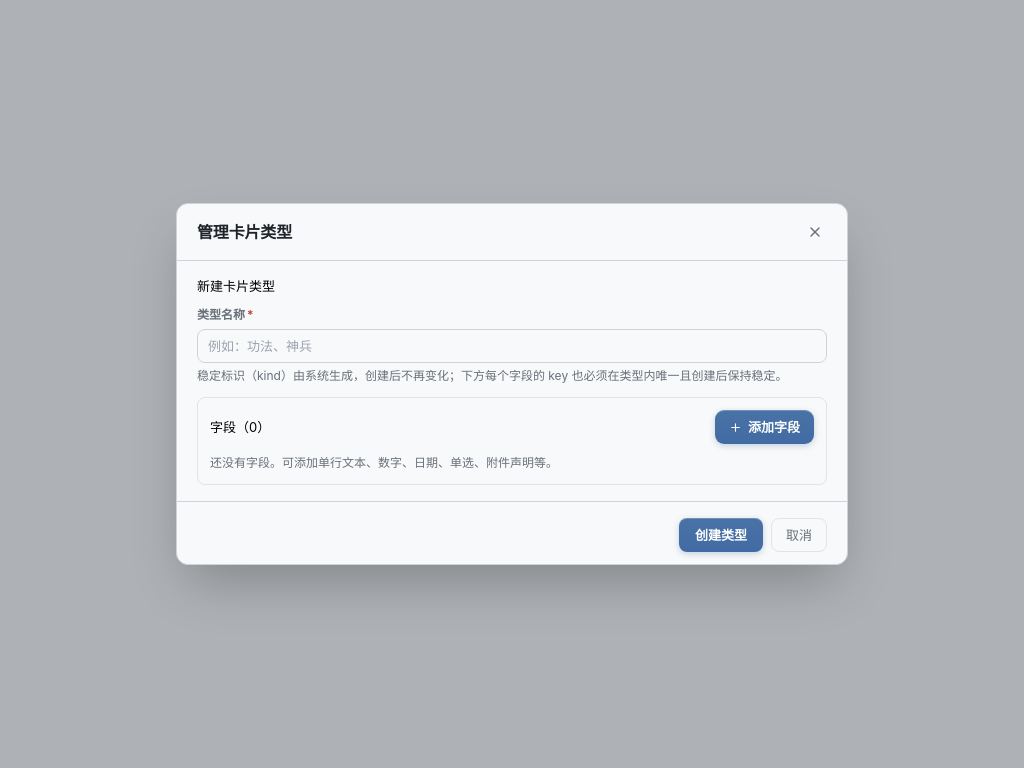
CardTypeEditor 自定义卡片类型 › 选项字段没有有效选项不提交
The image size is (1024, 768).
Type "选项类型" into the field with placeholder "例如：功法、神兵" at (512, 346), box 197,329 -> 827,363
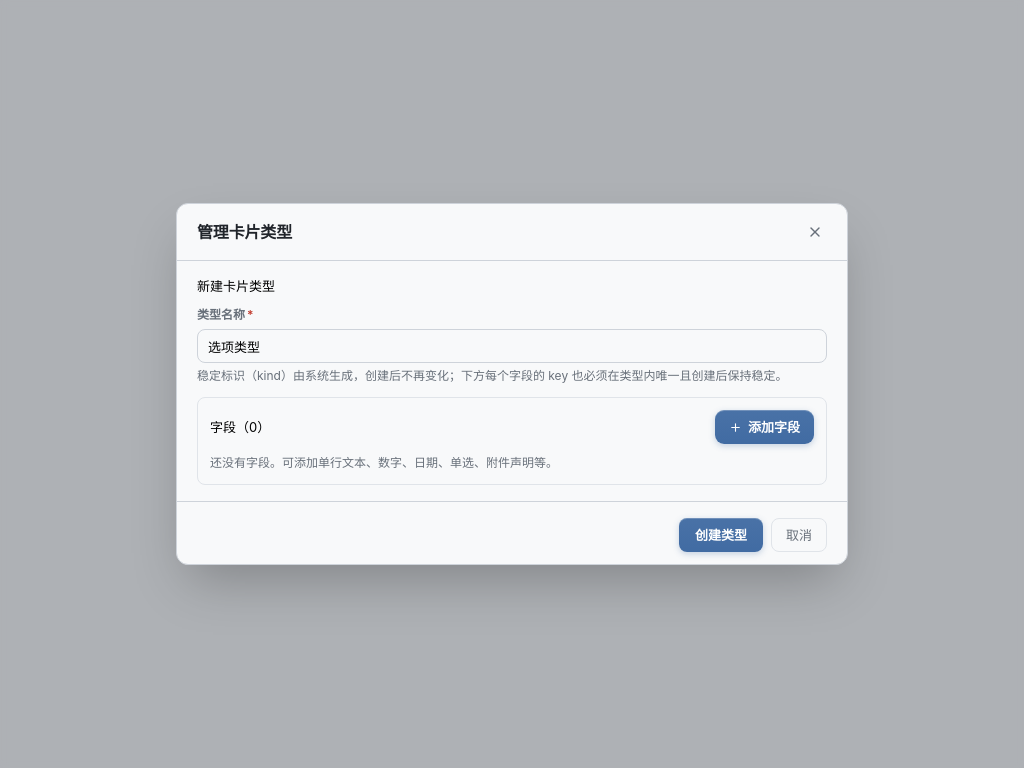
Click the button "添加字段" at (764, 427), box 715,410 -> 814,444
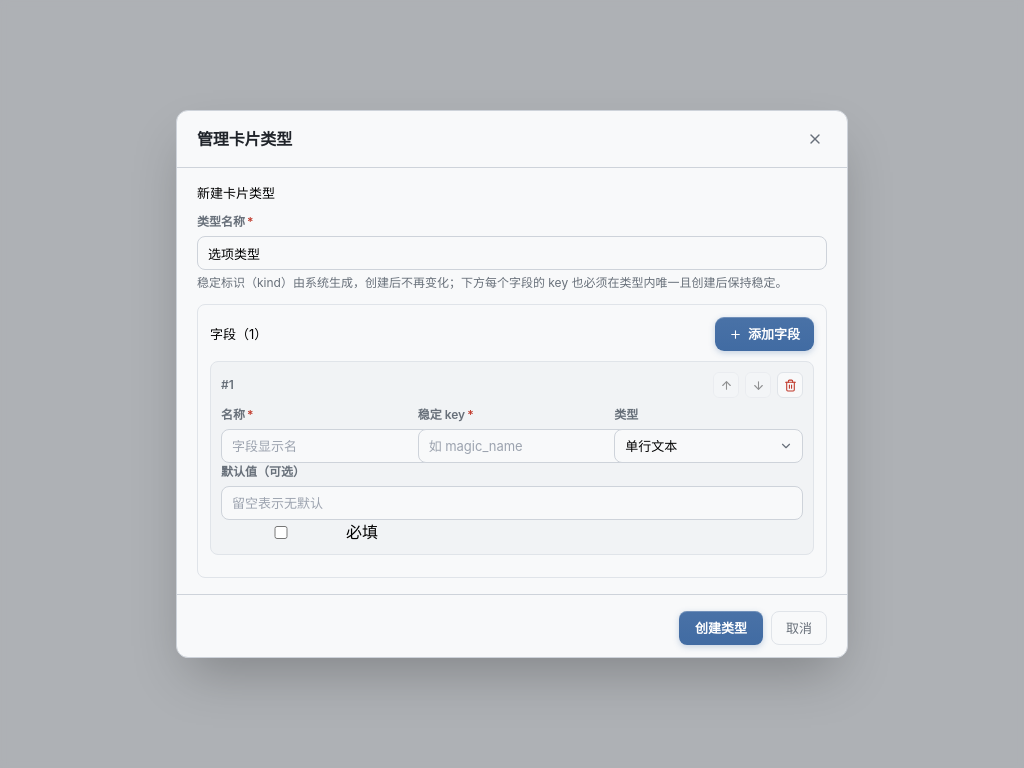
Type "单选字段" into the field with placeholder "字段显示名" at (333, 446), box 221,429 -> 445,463
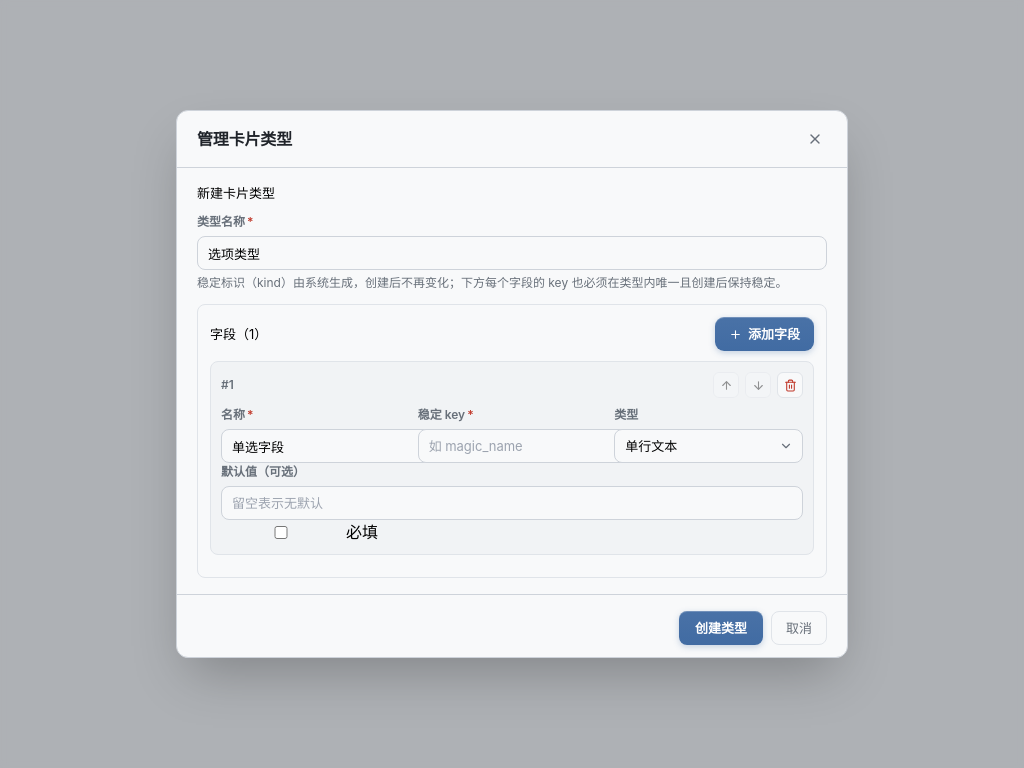
Type "sel" into the field with placeholder "如 magic_name" at (530, 446), box 418,429 -> 642,463
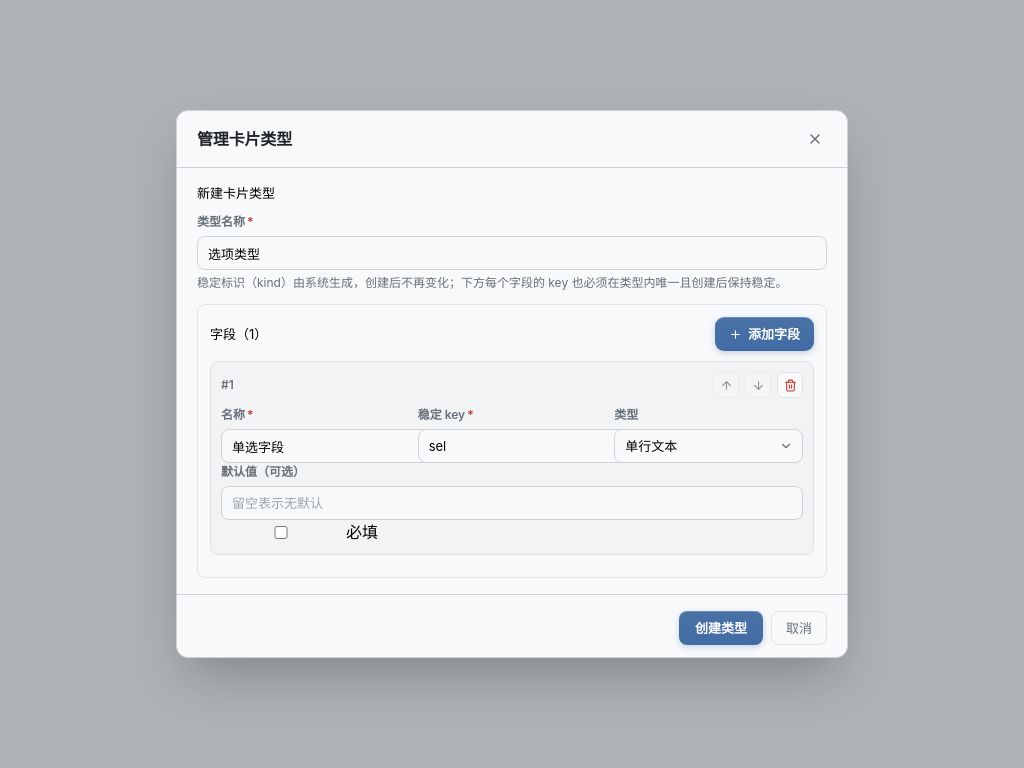
Select "单选" in the dropdown at (709, 446), box 614,429 -> 803,463
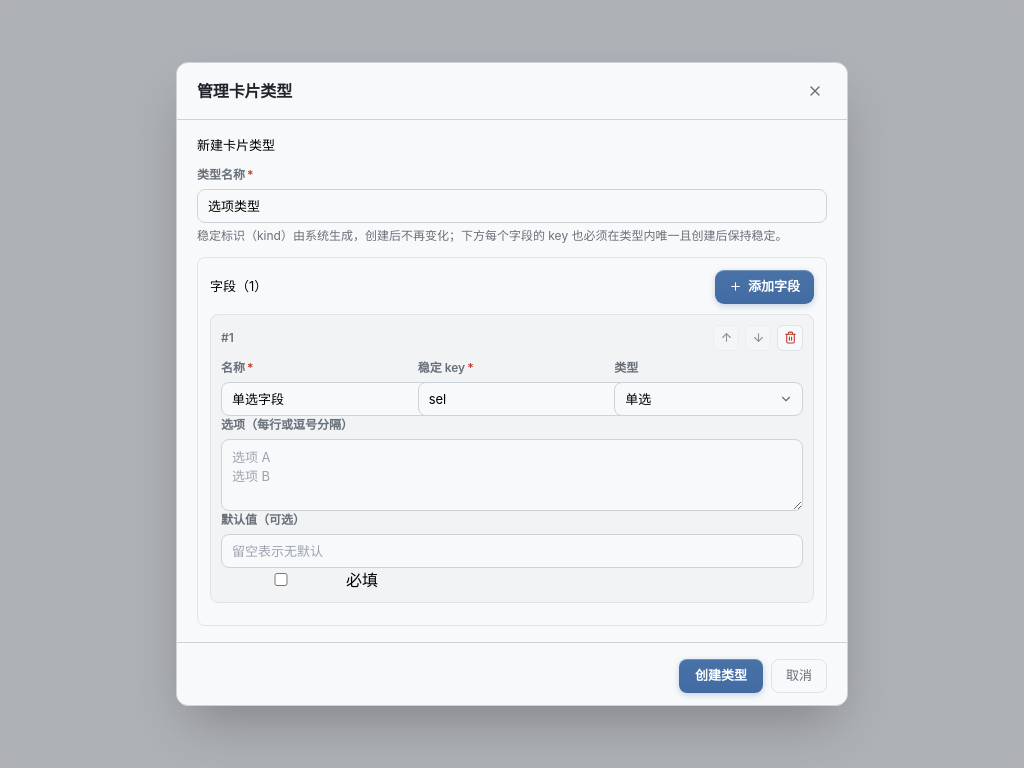
Click the button "创建类型" at (721, 676), box 679,659 -> 763,693
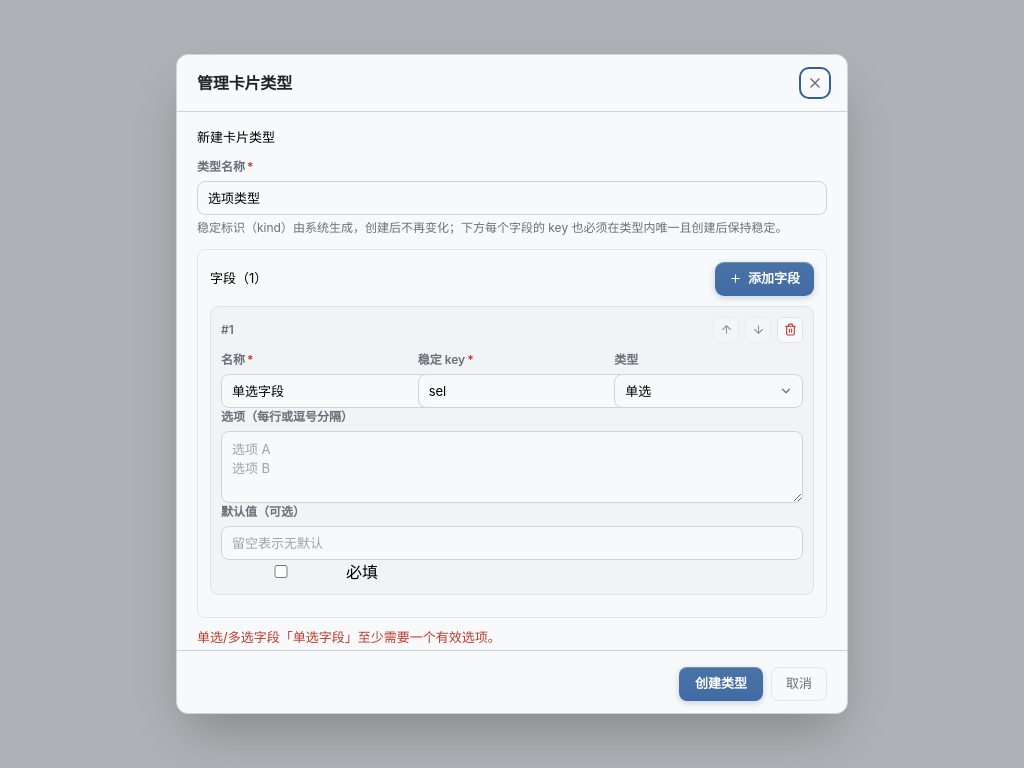
Result: the text "单选/多选字段「单选字段」至少需要一个有效选项。" is shown at 197,629 -> 501,645
